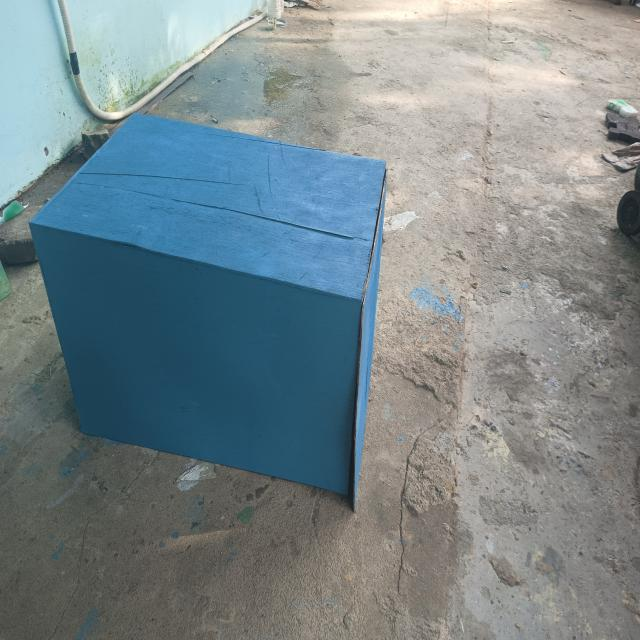blue_box: (38, 106, 413, 509)
